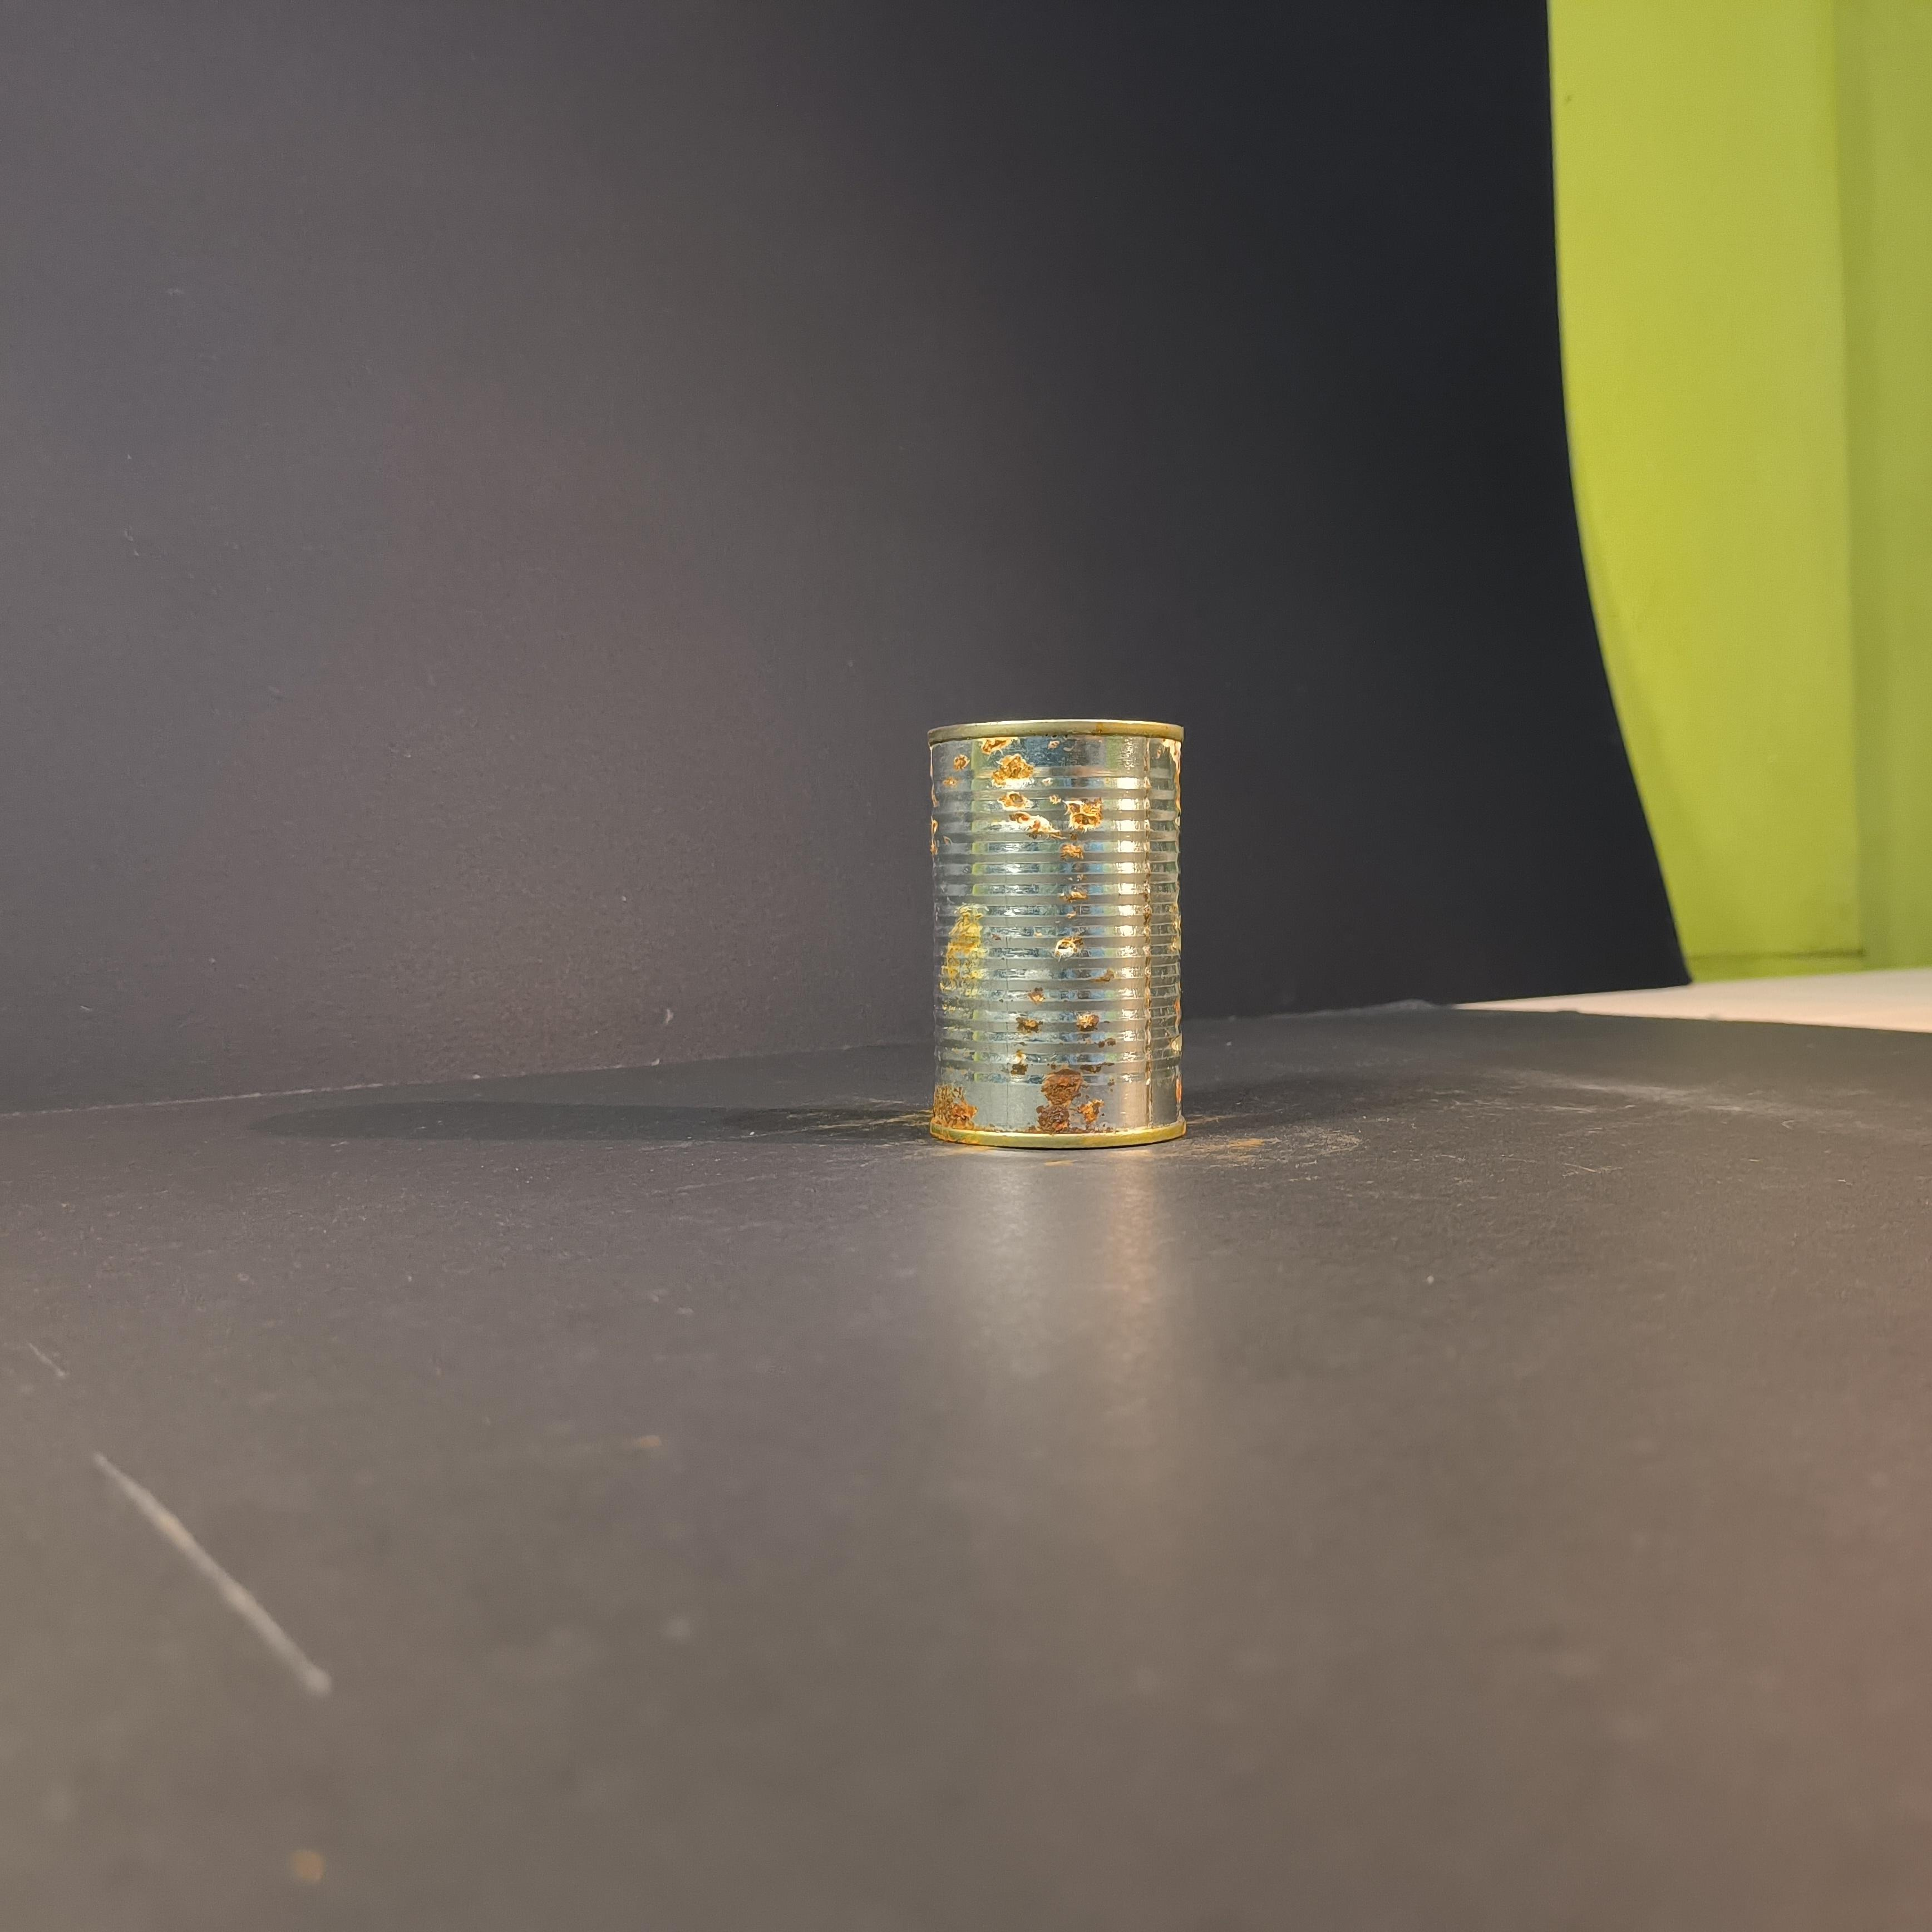Rusted: (913, 701, 1210, 1152)
